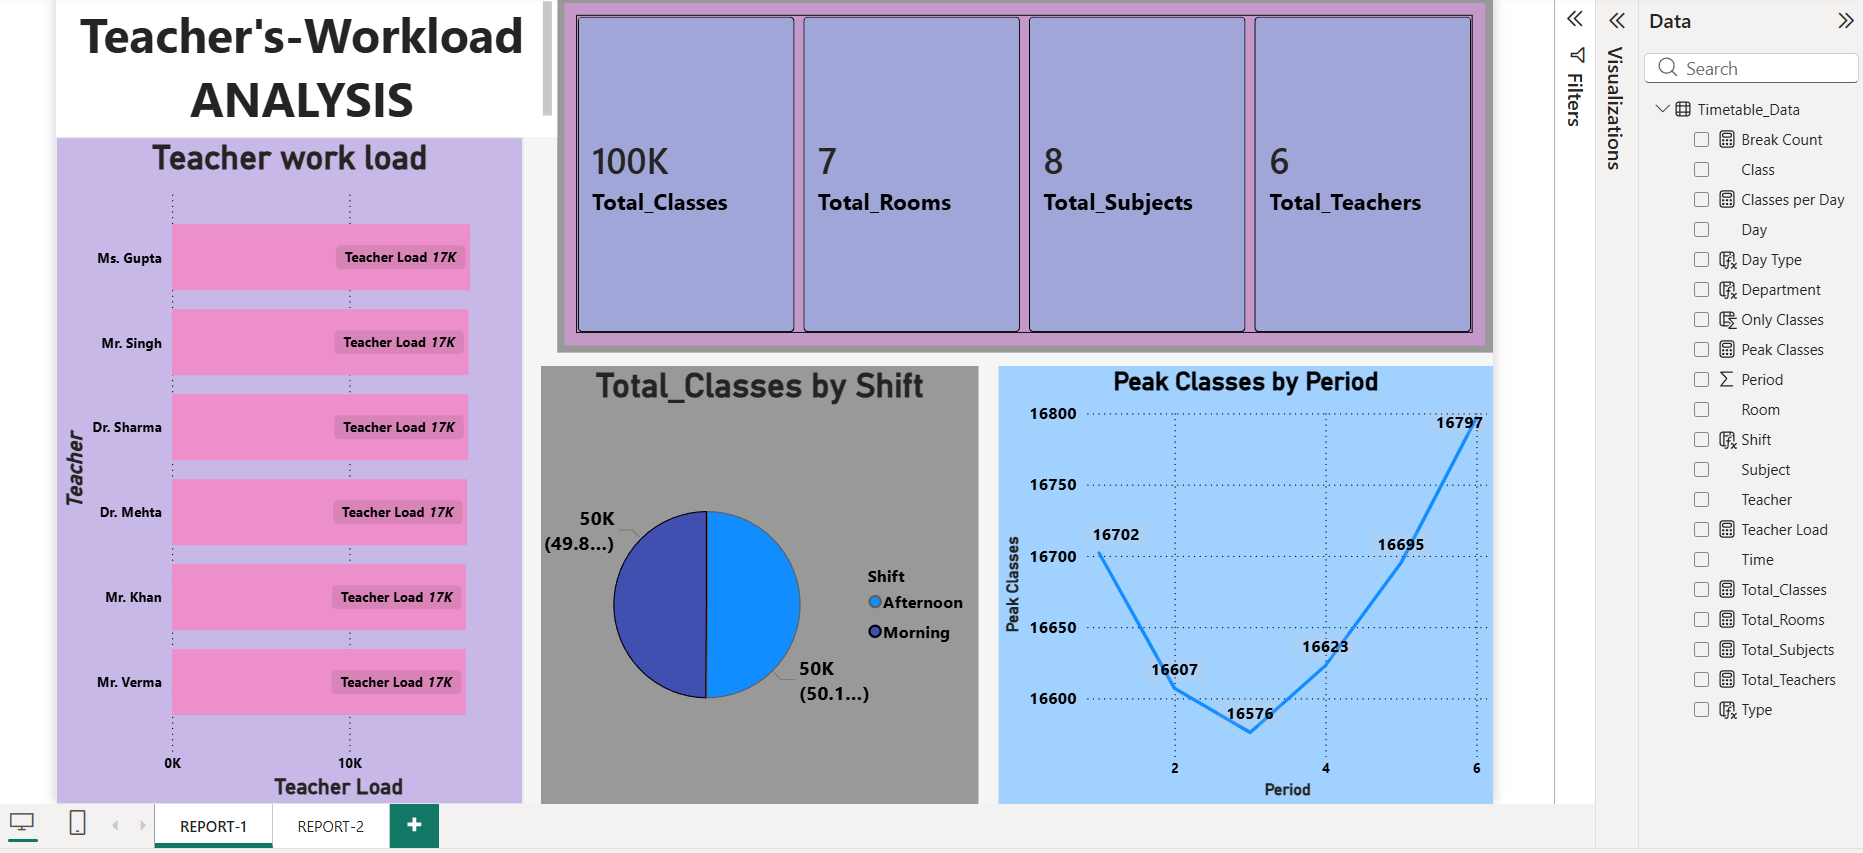

The page's visual inventory and layout, read from the dashboard file:
{"tool":"powerbi","page":{"name":"REPORT-1","canvas":[1280,720],"ordinal":0},"visuals":[{"type":"barChart","title":"Teacher work load","fields":{"Category":["Timetable_Data.Teacher"],"Y":["Timetable_Data.Teacher Load"]},"box":[0,125.6,416.3,594.2],"z":0},{"type":"pieChart","fields":{"Category":["Timetable_Data.Shift"],"Y":["Timetable_Data.Total_Classes"]},"box":[431.7,329.1,390,391.1],"z":1000},{"type":"cardVisual","fields":{"Data":["Timetable_Data.Total_Classes","Timetable_Data.Total_Rooms","Timetable_Data.Total_Subjects","Timetable_Data.Total_Teachers"]},"box":[446.3,0,834.1,317.8],"z":2000},{"type":"lineChart","fields":{"Category":["Timetable_Data.Period"],"Y":["Timetable_Data.Peak Classes"]},"box":[839.3,329.5,440.8,390.7],"z":3000},{"type":"textbox","box":[0,0,446.5,125.6],"z":4000}]}

Visuals, with their boxes on the page's 1280x720 design canvas (x1, y1, x2, y2). These are canvas units, not pixel positions in the 1863x853 screenshot, which may show the page scaled, cropped or inside an application window:
"Teacher work load" barChart: {"x1": 0, "y1": 126, "x2": 416, "y2": 720}
pieChart - Timetable_Data.Shift x Timetable_Data.Total_Classes: {"x1": 432, "y1": 329, "x2": 822, "y2": 720}
cardVisual - Timetable_Data.Total_Classes x Timetable_Data.Total_Rooms: {"x1": 446, "y1": 0, "x2": 1280, "y2": 318}
lineChart - Timetable_Data.Period x Timetable_Data.Peak Classes: {"x1": 839, "y1": 330, "x2": 1280, "y2": 720}
textbox: {"x1": 0, "y1": 0, "x2": 446, "y2": 126}
